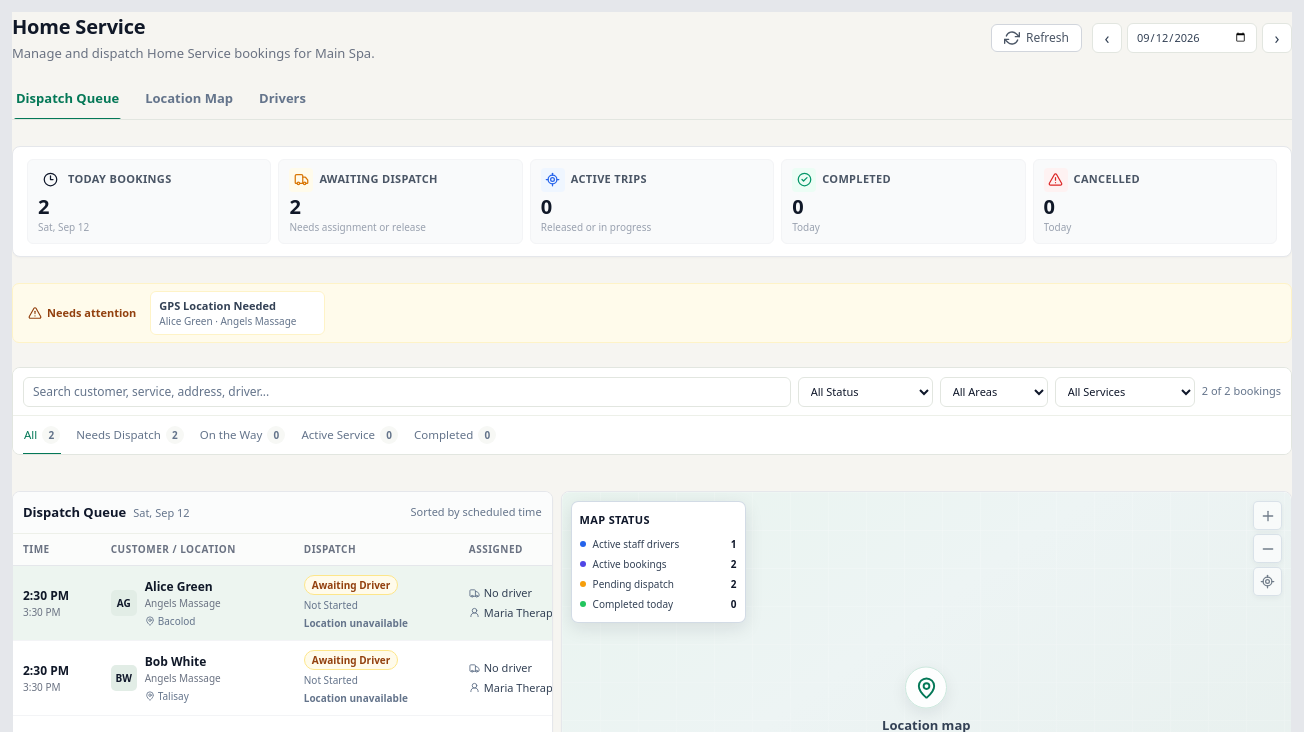
Test: HomeServiceView Component Suite › 16. filters queue rows by search query, status, and area
The width and height of the screenshot is (1304, 732).
Expected: the element with test id "home-service-queue-grid" is shown, x1=13 y1=534 x2=553 y2=716
Expected: the text "Alice Green" is shown, x1=145 y1=578 x2=221 y2=596
In the search field with placeholder "Search customer, service, address, driver...": (407, 392) x1=23 y1=376 x2=791 y2=406, type "Alice"
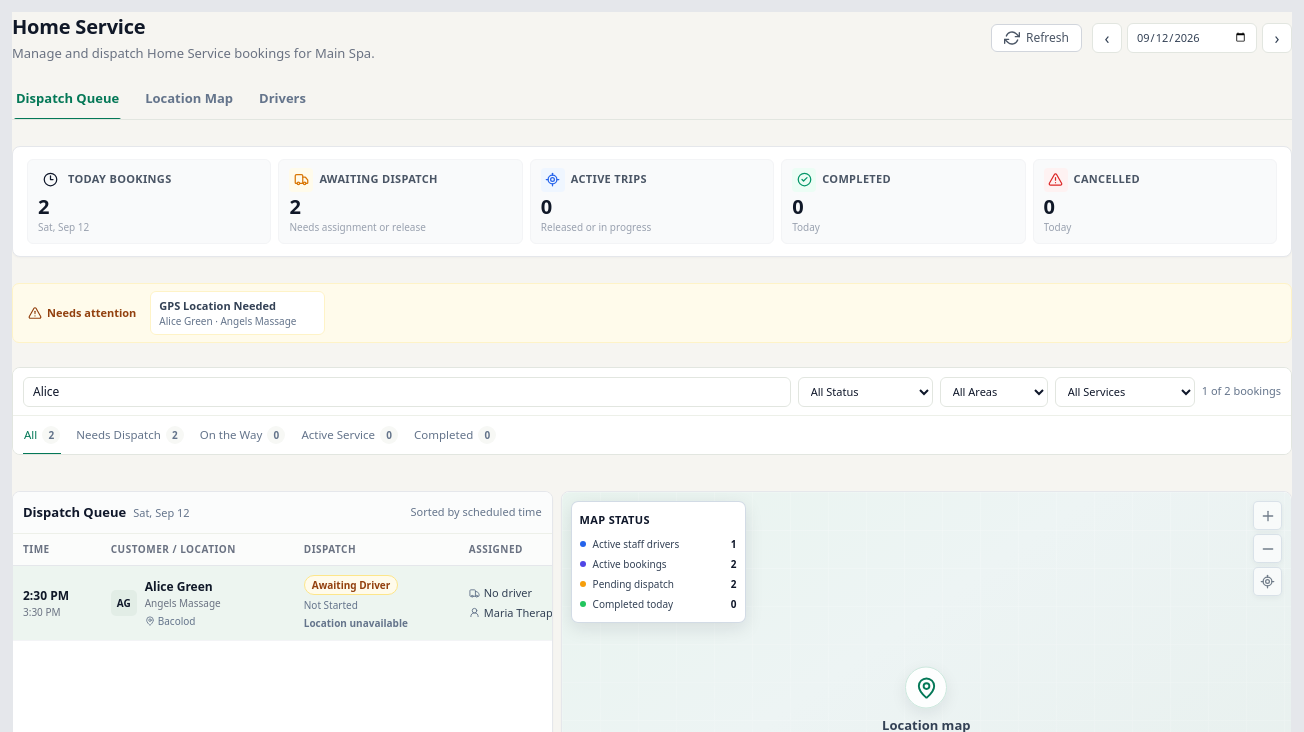
Expected: the text "Alice Green" is shown, x1=145 y1=578 x2=221 y2=596
Expected: the text "Bob White" is gone
